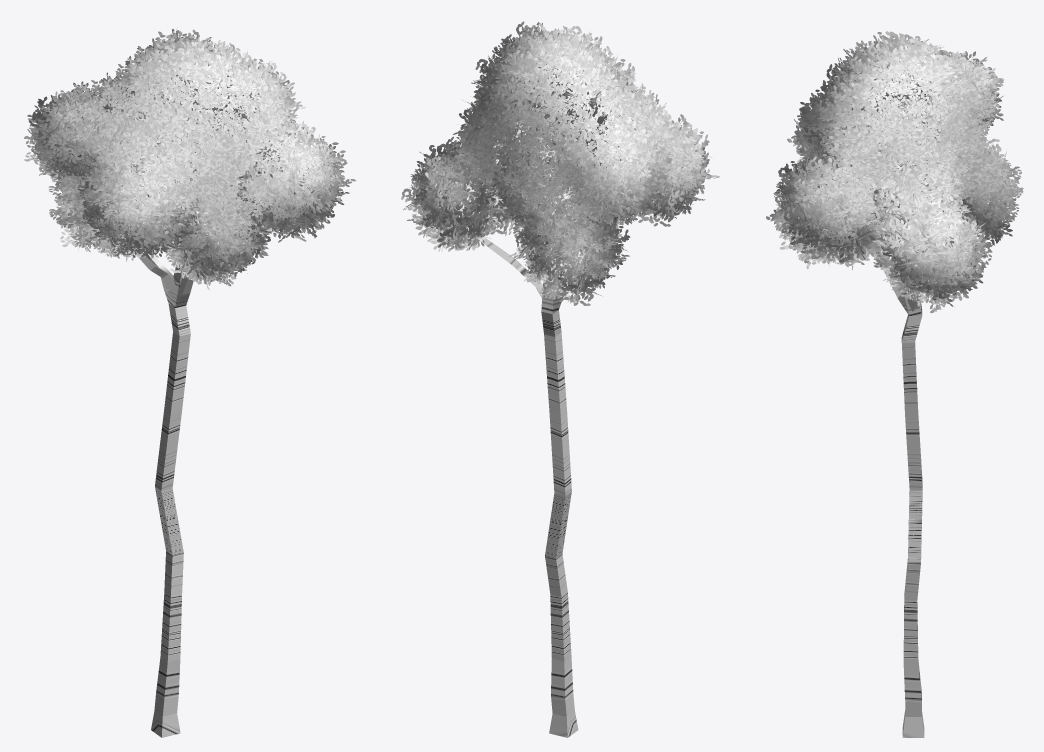
Rendered from TallTree02.fbx.
3 renders of one model, left to right at view 1: azimuth 30°, elevation 25°; view 2: azimuth 150°, elevation 25°; view 3: azimuth 270°, elevation 25°, orthographic.
Visible parts, largest first — view 1: TallTree02_LOD0; view 2: TallTree02_LOD0; view 3: TallTree02_LOD0.
Part boxes in pixels (box(x1,y1,x2,y2)): TallTree02_LOD0: box(24, 29, 355, 737); TallTree02_LOD0: box(401, 21, 719, 737); TallTree02_LOD0: box(766, 31, 1023, 737).
Size of what is drawn, in the model's own units: 744 by 1818 by 626.
